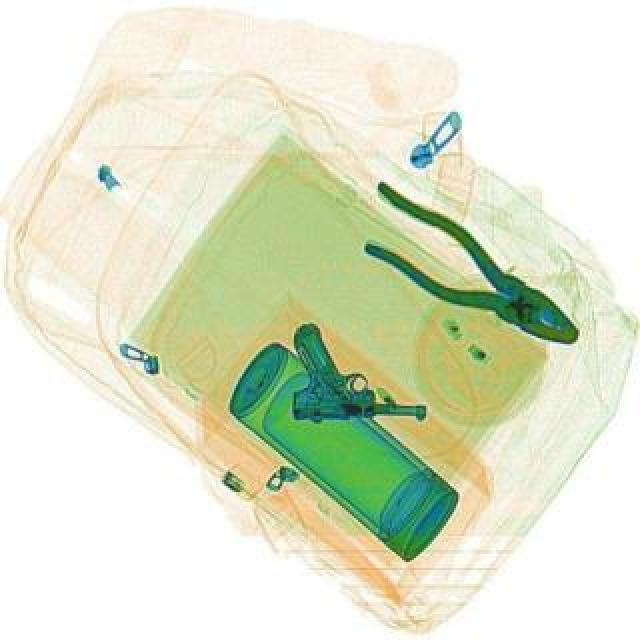gun: (288, 320, 428, 422)
wrench: (336, 174, 596, 368)
